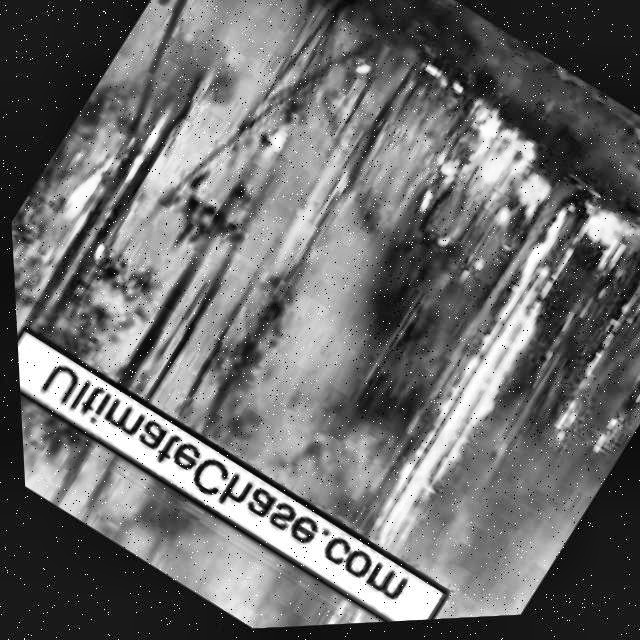Fire: (341, 196, 624, 563), (6, 136, 138, 409), (391, 90, 574, 276), (533, 307, 640, 449), (600, 223, 640, 337), (589, 413, 624, 454)
